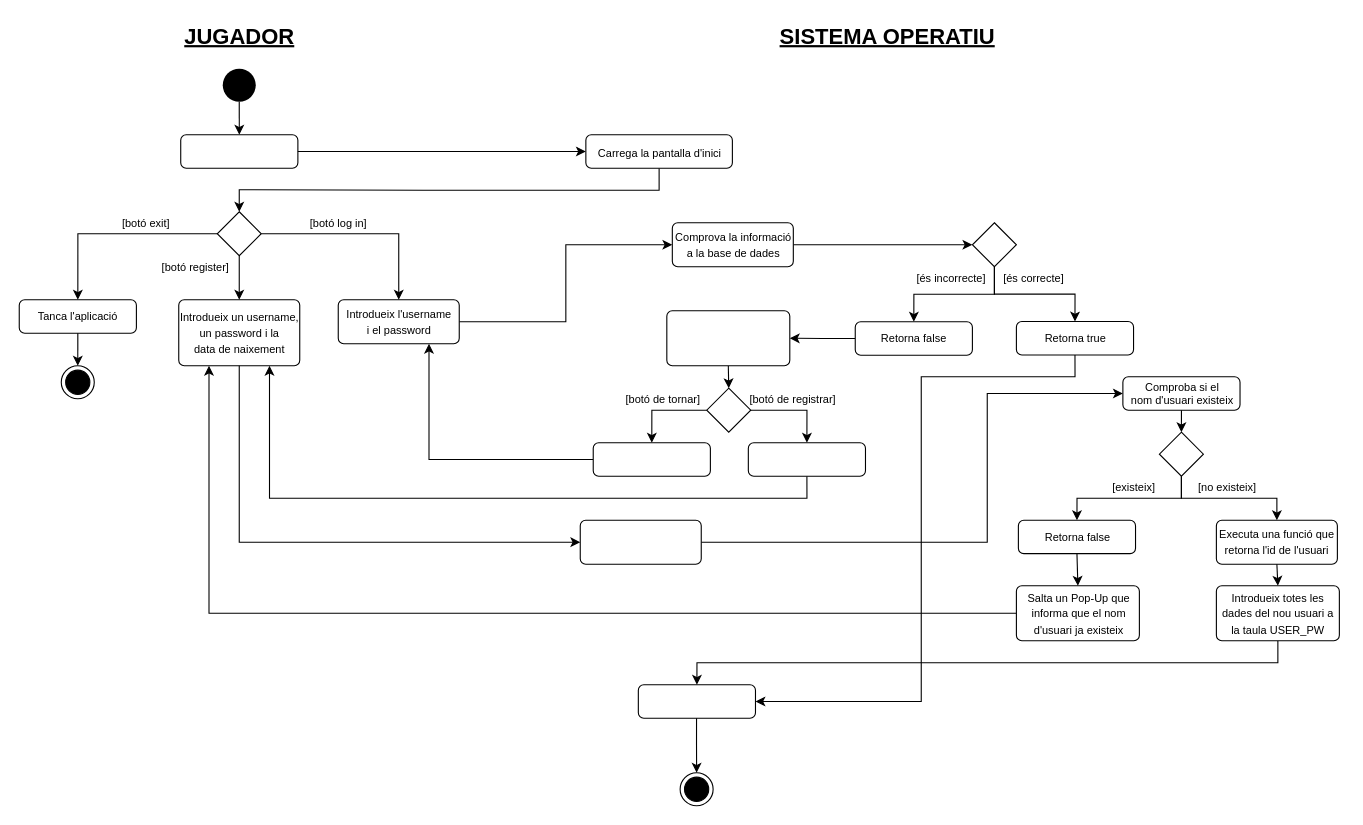
The diagram is 1363 pixels wide and 825 high, and some of its shapes have lost their labels. Each missing label, with the centre of its shape:
"Coincideix l'accés al joc" goes at [696,701].
"Envia la informació a la base de dades" goes at [640,541].
"Inicia l'aplicació" goes at [239,151].
"Registrar un nou usuari" goes at [806,459].
"Salta un Pop-Up que informa que les dades són incorrectes" goes at [728,338].
"Torna a demanar les dades" goes at [651,459].
